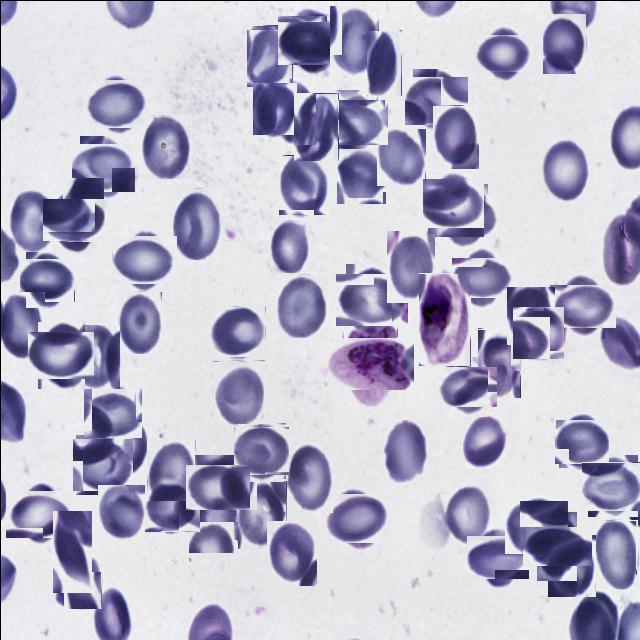difficult: (334, 328, 404, 398), (418, 272, 470, 365)
red blood cell: (340, 268, 402, 330), (329, 5, 379, 78), (172, 187, 222, 259), (281, 9, 340, 68), (386, 230, 434, 302), (284, 440, 332, 512), (188, 486, 240, 552), (506, 498, 565, 556), (275, 273, 328, 337), (540, 134, 589, 203), (212, 359, 264, 424), (10, 484, 68, 542), (237, 480, 286, 548), (140, 114, 191, 178), (266, 520, 316, 585), (115, 230, 172, 287), (32, 326, 89, 383), (7, 186, 56, 252), (52, 510, 91, 592), (328, 489, 384, 546), (71, 324, 119, 390), (103, 406, 145, 481), (408, 72, 464, 128), (75, 140, 131, 196), (74, 436, 130, 492), (584, 457, 640, 513), (292, 92, 338, 160), (442, 482, 492, 544), (326, 94, 382, 149), (424, 175, 480, 230), (278, 154, 329, 214), (146, 438, 195, 500), (89, 75, 144, 130), (554, 278, 610, 332), (190, 458, 244, 514), (477, 328, 520, 398), (547, 534, 595, 596), (529, 518, 583, 573), (594, 519, 637, 588), (383, 418, 427, 485), (0, 291, 44, 358), (84, 386, 138, 440), (376, 127, 426, 185), (432, 105, 478, 168), (210, 305, 264, 358), (46, 193, 100, 246), (246, 24, 292, 86), (440, 188, 492, 242), (336, 147, 386, 203), (506, 286, 554, 344), (273, 78, 315, 144), (145, 480, 197, 533), (471, 530, 524, 582), (117, 291, 161, 353), (235, 424, 287, 476), (512, 306, 564, 358), (542, 12, 586, 73), (97, 484, 144, 541), (61, 177, 102, 241), (456, 251, 507, 302), (54, 554, 101, 608), (22, 254, 72, 304), (440, 361, 490, 411), (462, 414, 508, 468), (556, 416, 605, 466), (478, 28, 528, 76), (366, 29, 401, 95), (252, 82, 296, 134), (269, 220, 310, 272)
